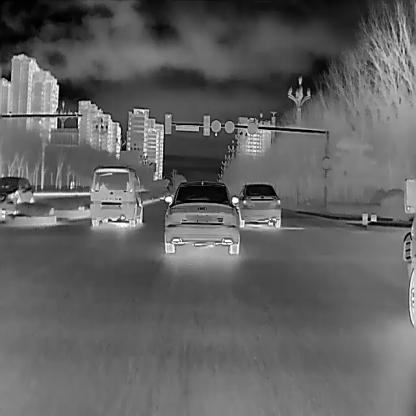car: (162, 177, 239, 254), (89, 163, 144, 227), (233, 180, 281, 226), (0, 174, 33, 222)
